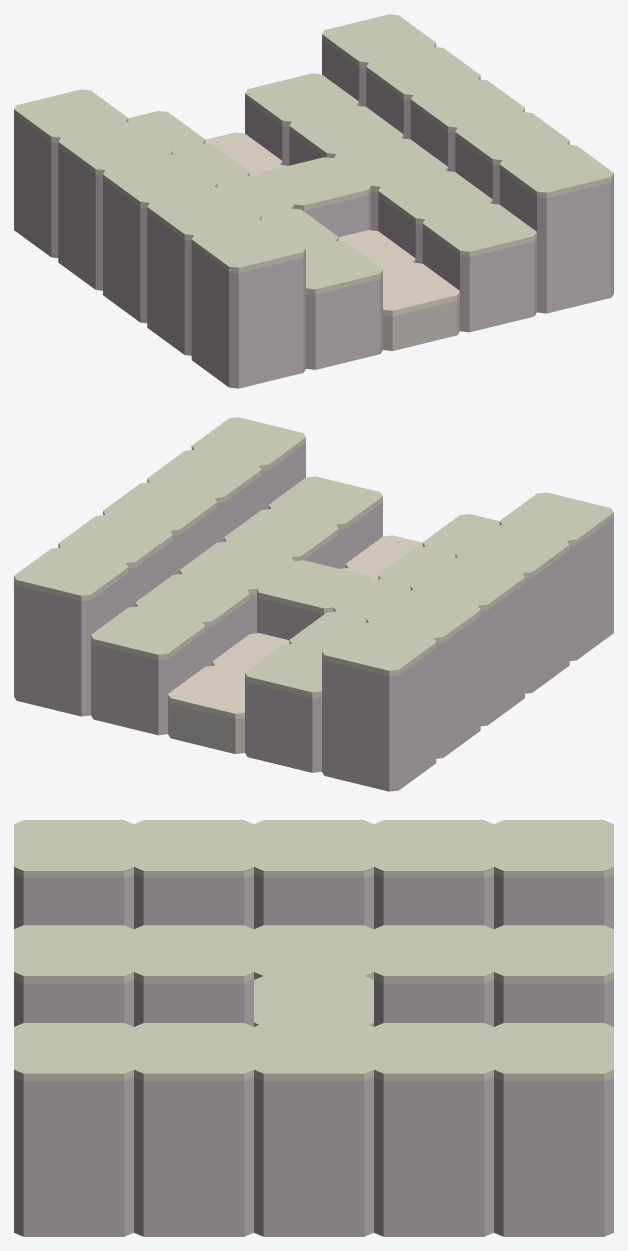
File: saddle.glb
3 renders of one model, top to bottom at view 1: azimuth 30°, elevation 25°; view 2: azimuth 150°, elevation 25°; view 3: azimuth 270°, elevation 25°, orthographic. The views are drawn at different scales.
Visible parts, largest first — view 1: saddle_998793, saddle_ADB18A, saddle_C9B99C, saddle_A29891; view 2: saddle_998793, saddle_ADB18A, saddle_C9B99C, saddle_A29891; view 3: saddle_998793, saddle_ADB18A.
Part boxes in pixels (x1,y1,x2,y2): saddle_998793: [14, 40, 613, 388]; saddle_ADB18A: [14, 14, 613, 294]; saddle_C9B99C: [205, 132, 459, 316]; saddle_A29891: [383, 297, 459, 350]; saddle_998793: [14, 443, 613, 791]; saddle_ADB18A: [14, 417, 613, 697]; saddle_C9B99C: [168, 535, 422, 719]; saddle_A29891: [168, 700, 244, 753]; saddle_998793: [14, 874, 613, 1236]; saddle_ADB18A: [14, 820, 613, 1081].
Size of the model in its own units: 5 by 1.5 by 5.
